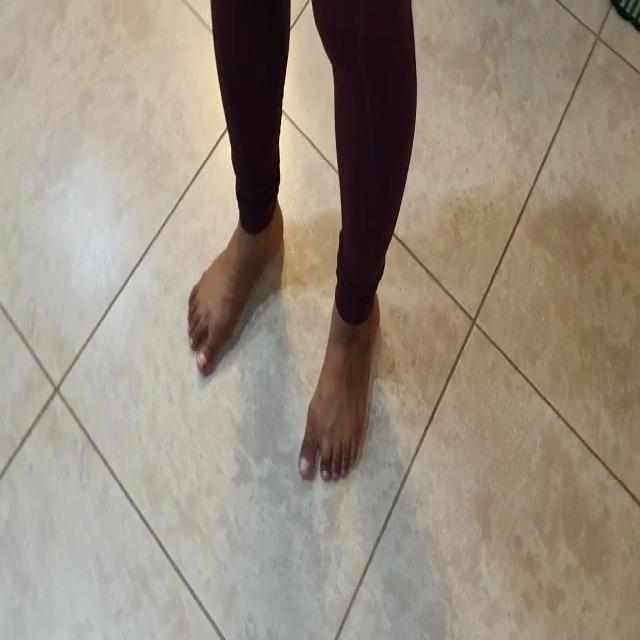no-boots: (182, 185, 286, 378), (299, 299, 385, 492)
